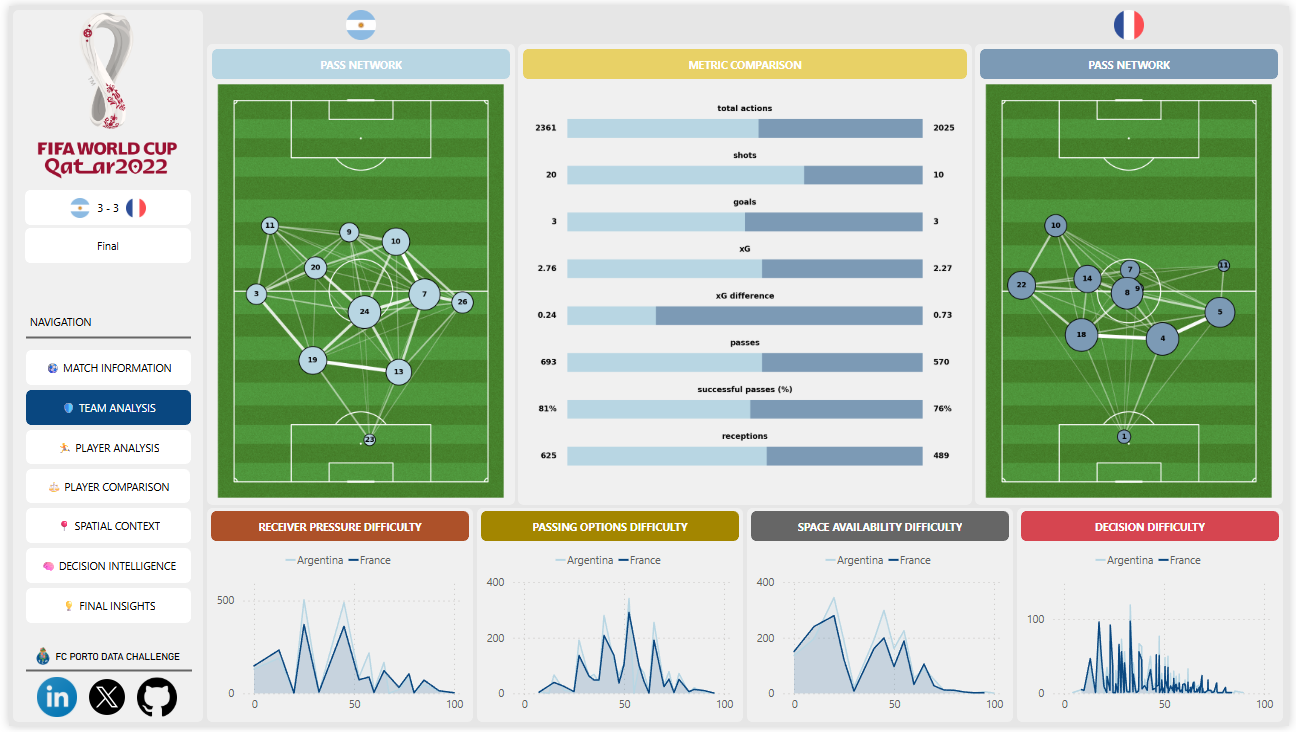

What the dashboard file says about the page in this screenshot:
{"tool":"powerbi","page":{"name":"team analysis","canvas":[1280,720],"ordinal":1},"visuals":[{"type":"shape","box":[4,4,190,712],"z":0},{"type":"actionButton","title":"Botão Ativo Acumulado","box":[16.6,344.1,165,35],"z":1000},{"type":"actionButton","title":"Botão Ativo Acumulado","box":[16.7,383.9,165.7,35],"z":2000},{"type":"actionButton","title":"Botão Ativo Acumulado","box":[17,424,165,34],"z":3000},{"type":"actionButton","title":"Botão Ativo Acumulado","box":[17,463,164,34],"z":4000},{"type":"actionButton","title":"Botão Ativo Acumulado","box":[17,502,165,35],"z":5000},{"type":"shape","box":[16.6,302,165.6,58.9],"z":6000},{"type":"actionButton","title":"Botão Ativo Acumulado","box":[10.1,300,83,30],"z":7000},{"type":"actionButton","title":"Botão Ativo Acumulado","box":[17,542,165,35],"z":8000},{"type":"actionButton","title":"Botão Ativo Acumulado","box":[17,582,165,35],"z":9000},{"type":"shape","box":[17,635,166,59],"z":10000},{"type":"image","box":[28.4,671,40,40],"z":11000},{"type":"image","box":[128.4,671,40,40],"z":12000},{"type":"image","box":[78.4,671,40,40],"z":13000},{"type":"actionButton","title":"Botão Ativo Acumulado","box":[16,184,166,35],"z":14000},{"type":"actionButton","title":"Botão Ativo Acumulado","box":[16,222,166,35],"z":15000},{"type":"image","box":[117,192,20,20],"z":16000},{"type":"image","box":[61,192,20,20],"z":17000},{"type":"image","box":[4,4,189,170],"z":18000},{"type":"shape","box":[198,38,308,461],"z":19000},{"type":"actionButton","title":"Botão Ativo Acumulado","box":[203,43,298,30],"z":20000},{"type":"image","box":[1105,4,30,30],"z":21000},{"type":"image","box":[337,4,30,30],"z":22000},{"type":"shape","box":[966,38,308,461],"z":23000},{"type":"actionButton","title":"Botão Ativo Acumulado","box":[971,43,298,30],"z":24000},{"type":"shape","box":[509,38,454,461],"z":25000},{"type":"actionButton","title":"Botão Ativo Acumulado","box":[514,43,444,30],"z":26000},{"type":"pythonVisual","title":"heatmap","fields":{"Values":["fct_events.location_x","fct_events.location_y","fct_events.type","fct_events.team","fct_events.player_id","fct_events.pass_recipient","fct_events.player","dim_players.jersey_number","dim_players.player_name"]},"box":[194,57,316,456],"z":27000},{"type":"pythonVisual","title":"heatmap","fields":{"Values":["fct_events.location_x","fct_events.location_y","fct_events.type","fct_events.team","fct_events.player_id","fct_events.pass_recipient","fct_events.player","dim_players.jersey_number","dim_players.player_name"]},"box":[962,57,316,456],"z":28000},{"type":"shape","box":[198,502,266,214],"z":29000},{"type":"shape","box":[468,502,266,214],"z":30000},{"type":"shape","box":[738,502,266,214],"z":31000},{"type":"shape","box":[1008,502,266,214],"z":32000},{"type":"actionButton","title":"Botão Ativo Acumulado","box":[202,505,258,30],"z":33000},{"type":"actionButton","title":"Botão Ativo Acumulado","box":[472,505,258,30],"z":34000},{"type":"actionButton","title":"Botão Ativo Acumulado","box":[742,505,258,30],"z":35000},{"type":"actionButton","title":"Botão Ativo Acumulado","box":[1012,505,258,30],"z":36000},{"type":"areaChart","fields":{"Y":["CountNonNull(fct_events.id)"],"Series":["fct_events.team"],"Category":["fct_events.receiver_pressure_score"]},"box":[202,535,258,181],"z":37000},{"type":"areaChart","fields":{"Y":["CountNonNull(fct_events.id)"],"Series":["fct_events.team"],"Category":["fct_events.passing_options_difficulty_score"]},"box":[472,535,258,181],"z":38000},{"type":"areaChart","fields":{"Category":["fct_events.space_difficulty_score"],"Y":["CountNonNull(fct_events.id)"],"Series":["fct_events.team"]},"box":[742,535,258,181],"z":39000},{"type":"areaChart","fields":{"Category":["fct_events.decision_difficulty_score"],"Y":["CountNonNull(fct_events.id)"],"Series":["fct_events.team"]},"box":[1012,535,258,181],"z":40000},{"type":"pythonVisual","fields":{"Values":["fct_team_stats_long.team","fct_team_stats_long.Atributo","fct_team_stats_long.Valor"]},"box":[509,73,454,426],"z":41000},{"type":"actionButton","title":"Botão Ativo Acumulado","box":[37,635,143,30],"z":42000},{"type":"image","box":[25,641,18,18],"z":43000}]}

Visuals, with their boxes in screenshot pixels (x1, y1, x2, y2), scaled from the page's 1280x720 canvas onto the 1296x732 screenshot:
shape: crop(4, 4, 196, 728)
"Botão Ativo Acumulado" actionButton: crop(17, 350, 184, 385)
"Botão Ativo Acumulado" actionButton: crop(17, 390, 185, 426)
"Botão Ativo Acumulado" actionButton: crop(17, 431, 184, 466)
"Botão Ativo Acumulado" actionButton: crop(17, 471, 183, 505)
"Botão Ativo Acumulado" actionButton: crop(17, 510, 184, 546)
shape: crop(17, 307, 184, 367)
"Botão Ativo Acumulado" actionButton: crop(10, 305, 94, 336)
"Botão Ativo Acumulado" actionButton: crop(17, 551, 184, 587)
"Botão Ativo Acumulado" actionButton: crop(17, 592, 184, 627)
shape: crop(17, 646, 185, 706)
image: crop(29, 682, 69, 723)
image: crop(130, 682, 171, 723)
image: crop(79, 682, 120, 723)
"Botão Ativo Acumulado" actionButton: crop(16, 187, 184, 223)
"Botão Ativo Acumulado" actionButton: crop(16, 226, 184, 261)
image: crop(118, 195, 139, 216)
image: crop(62, 195, 82, 216)
image: crop(4, 4, 195, 177)
shape: crop(200, 39, 512, 507)
"Botão Ativo Acumulado" actionButton: crop(206, 44, 507, 74)
image: crop(1119, 4, 1149, 35)
image: crop(341, 4, 372, 35)
shape: crop(978, 39, 1290, 507)
"Botão Ativo Acumulado" actionButton: crop(983, 44, 1285, 74)
shape: crop(515, 39, 975, 507)
"Botão Ativo Acumulado" actionButton: crop(520, 44, 970, 74)
"heatmap" pythonVisual: crop(196, 58, 516, 522)
"heatmap" pythonVisual: crop(974, 58, 1294, 522)
shape: crop(200, 510, 470, 728)
shape: crop(474, 510, 743, 728)
shape: crop(747, 510, 1017, 728)
shape: crop(1021, 510, 1290, 728)
"Botão Ativo Acumulado" actionButton: crop(205, 513, 466, 544)
"Botão Ativo Acumulado" actionButton: crop(478, 513, 739, 544)
"Botão Ativo Acumulado" actionButton: crop(751, 513, 1012, 544)
"Botão Ativo Acumulado" actionButton: crop(1025, 513, 1286, 544)
areaChart - CountNonNull(fct_events.id) x fct_events.team: crop(205, 544, 466, 728)
areaChart - CountNonNull(fct_events.id) x fct_events.team: crop(478, 544, 739, 728)
areaChart - fct_events.space_difficulty_score x CountNonNull(fct_events.id): crop(751, 544, 1012, 728)
areaChart - fct_events.decision_difficulty_score x CountNonNull(fct_events.id): crop(1025, 544, 1286, 728)
pythonVisual - fct_team_stats_long.team x fct_team_stats_long.Atributo: crop(515, 74, 975, 507)
"Botão Ativo Acumulado" actionButton: crop(37, 646, 182, 676)
image: crop(25, 652, 44, 670)
